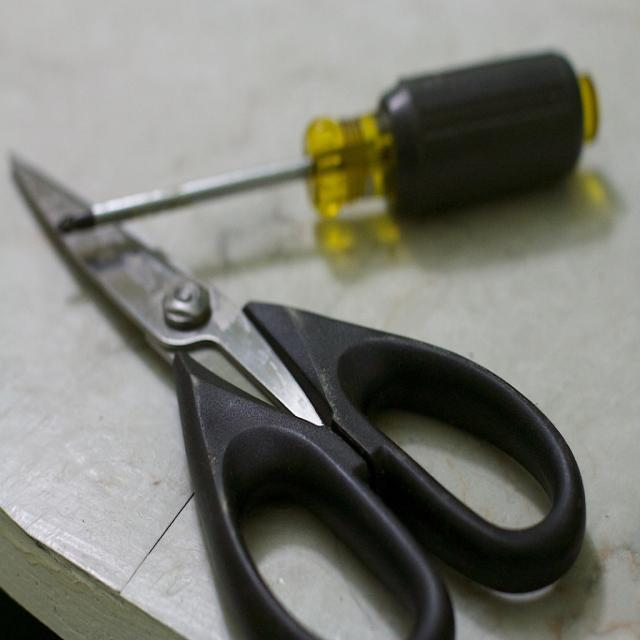scissors: (10, 150, 587, 638)
